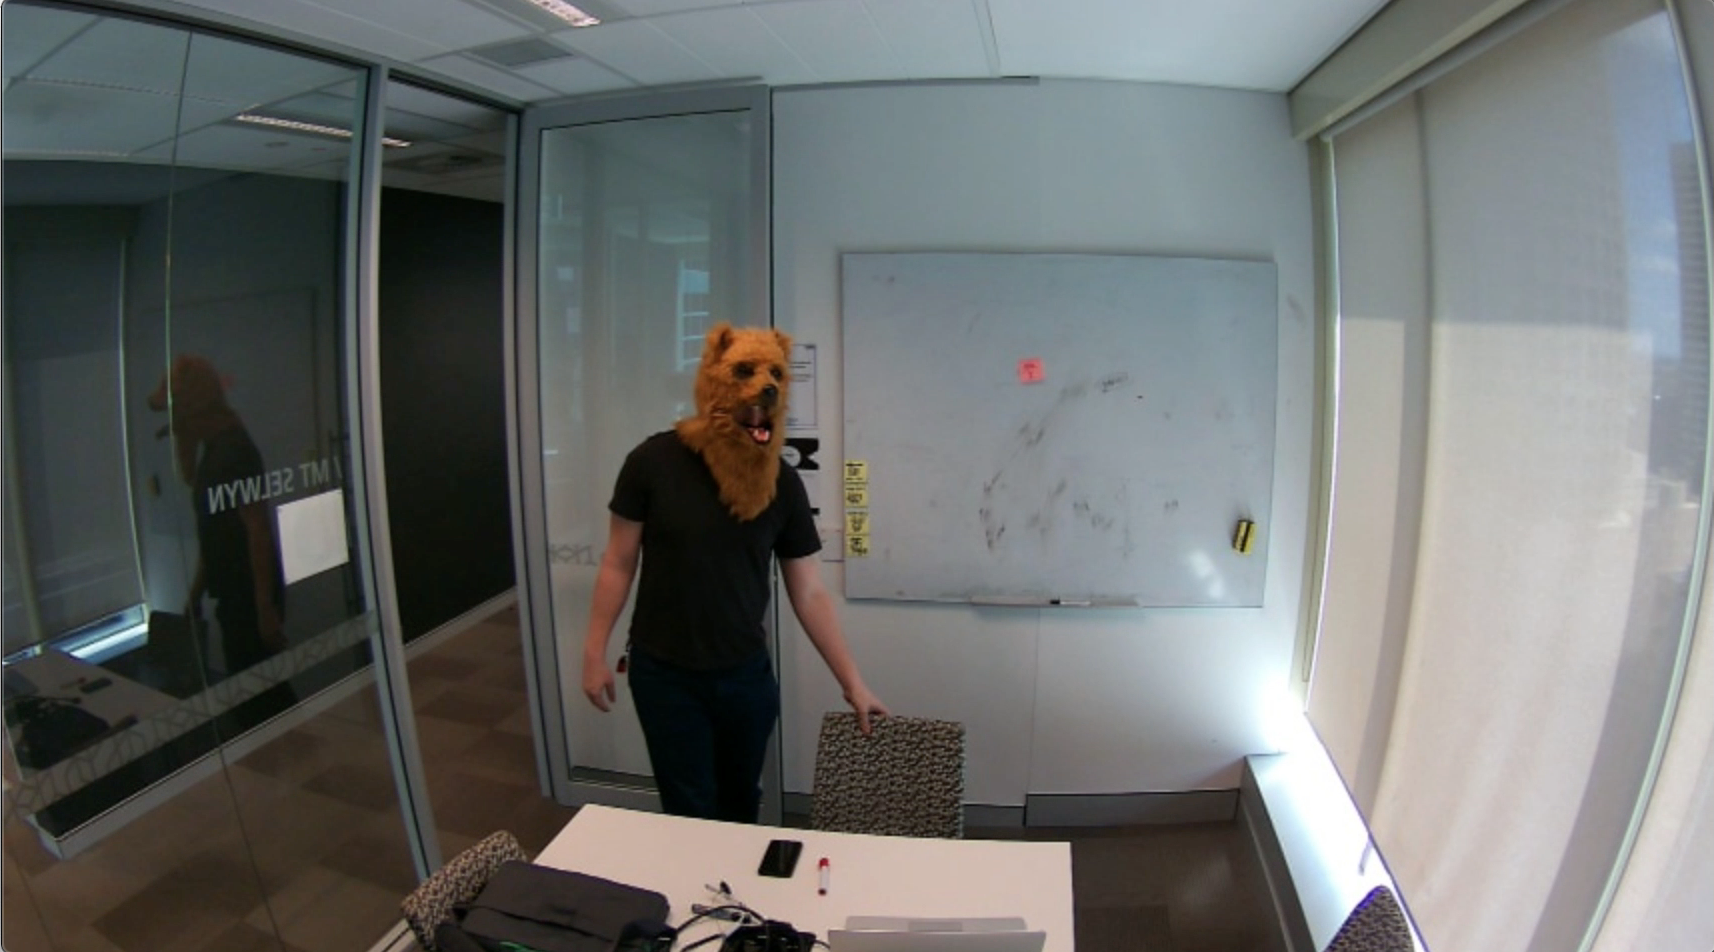Bear: (695, 318, 800, 463)
